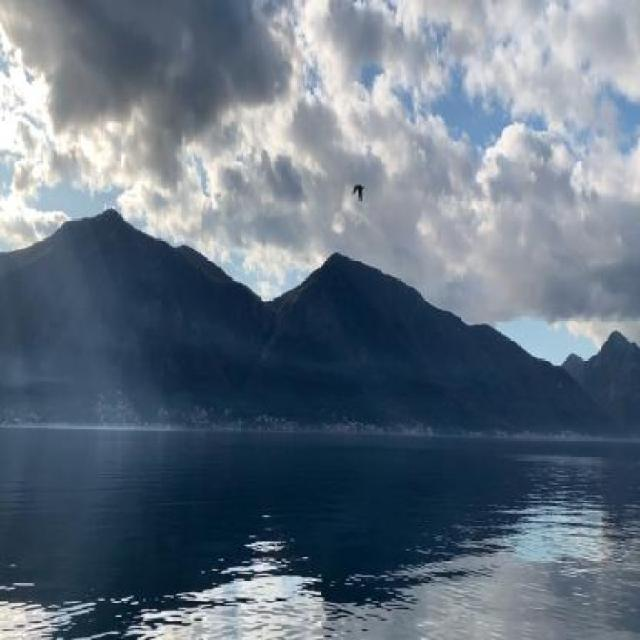bird: (352, 176, 365, 215)
